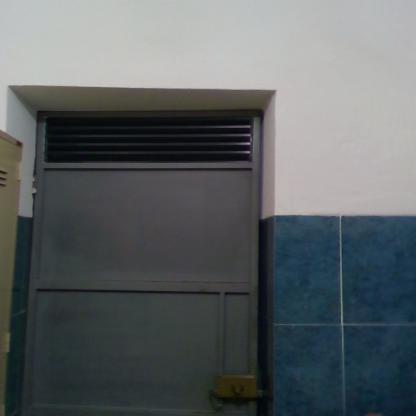door: (38, 110, 260, 416)
